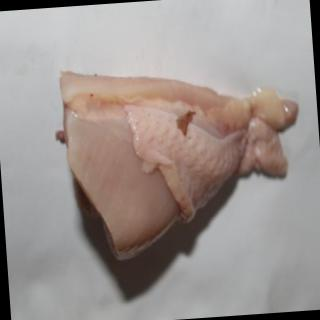Ayam: (60, 55, 310, 262)
